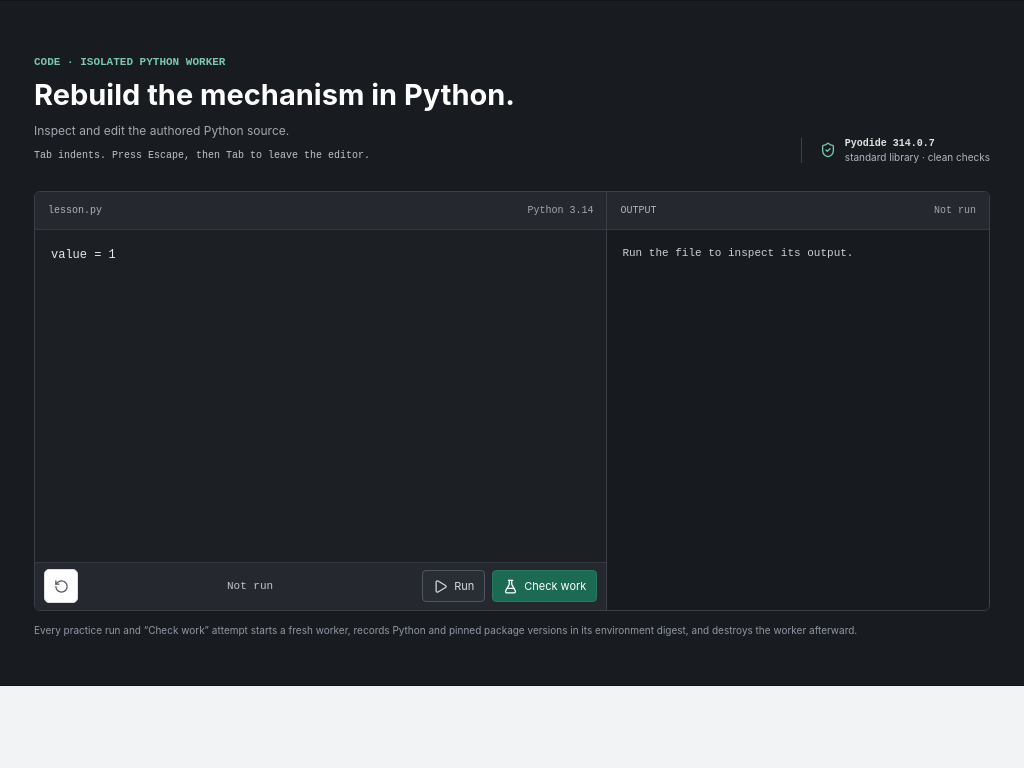
Test: PythonCodeLab source result ownership › suppresses an in-flight check completion after its source is edited
Click the button "Check work". click: click(545, 586)
box: [492,570,597,602]
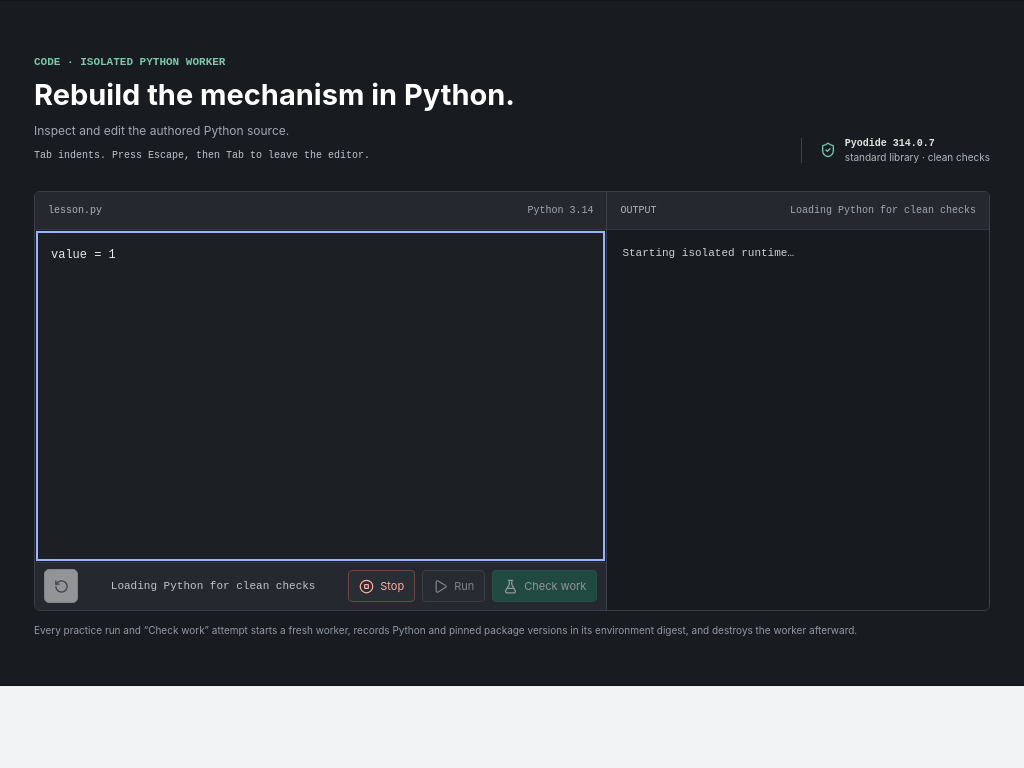
Replace the text in the text box named "Python source" with "value = 2". click: (321, 396)
box: [35,230,606,562]
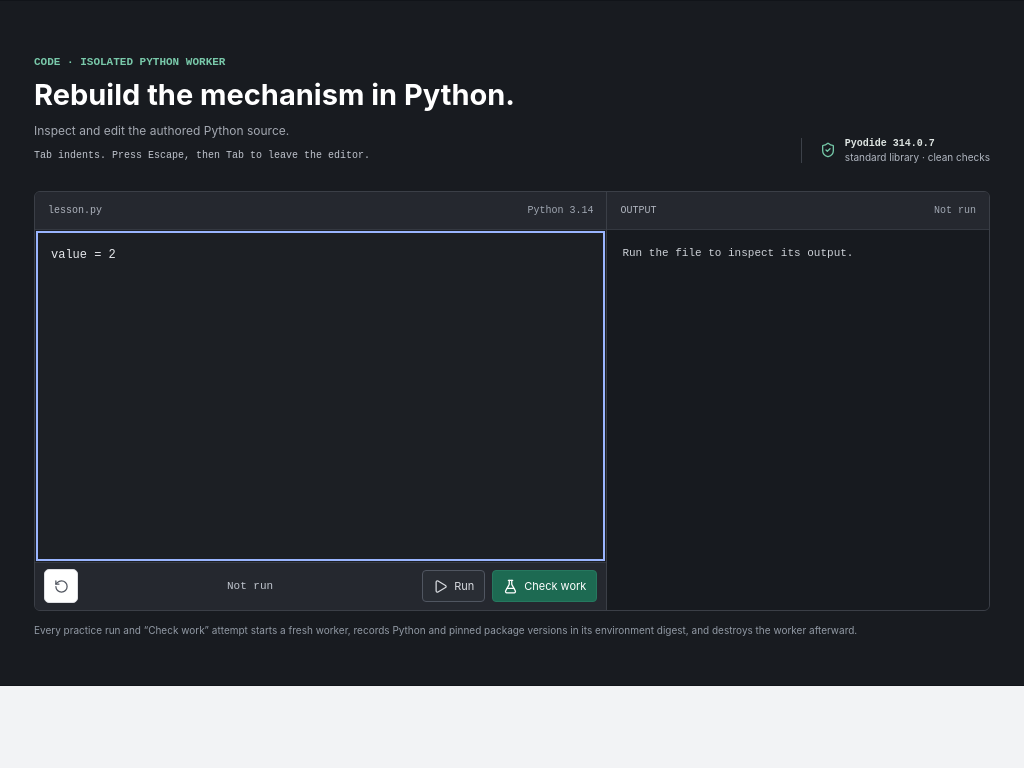
Expected: the text "Run the file to inspect its output." is shown, [622,247,853,259]
Expected: the button "Check work" is enabled, [492,570,597,602]
